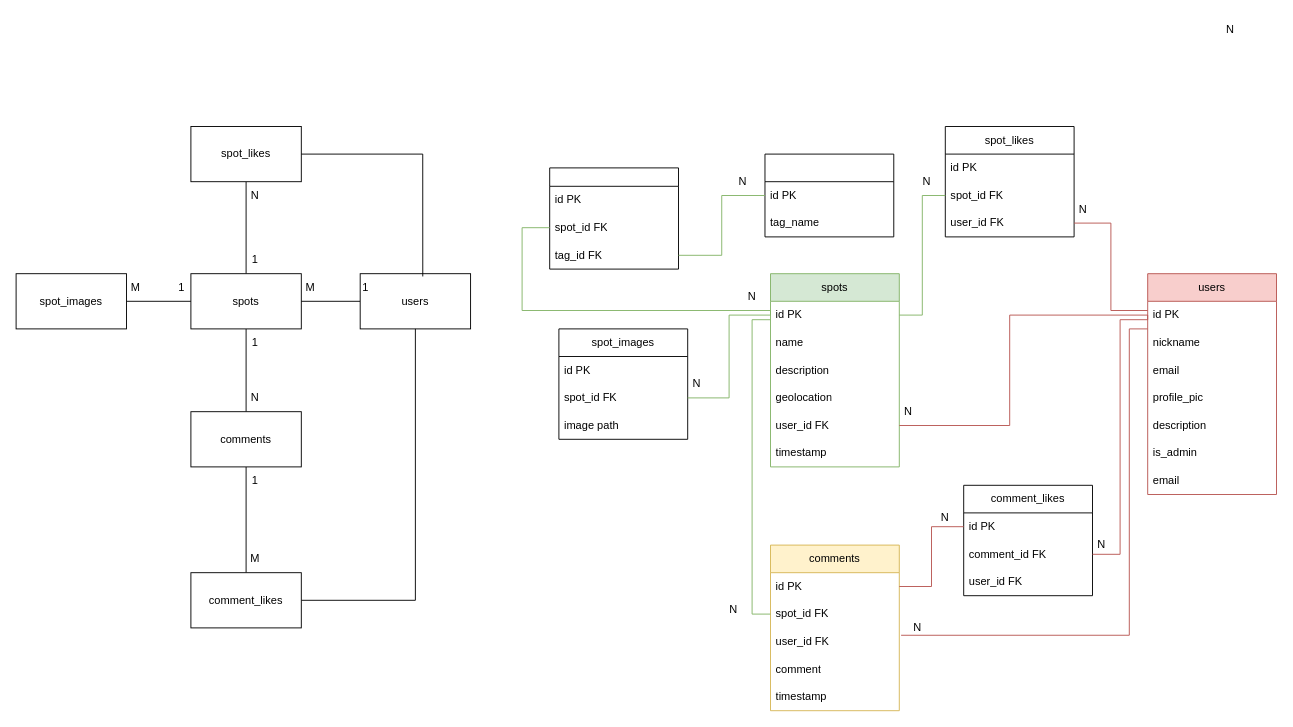
Image size: 1293x727. Some labels were removed from this diagram. The box of each missing label's shape, as (x1, y1, x2, y2) in pixels:
spot_tags: (549, 167, 678, 269)
tags: (764, 153, 894, 237)
